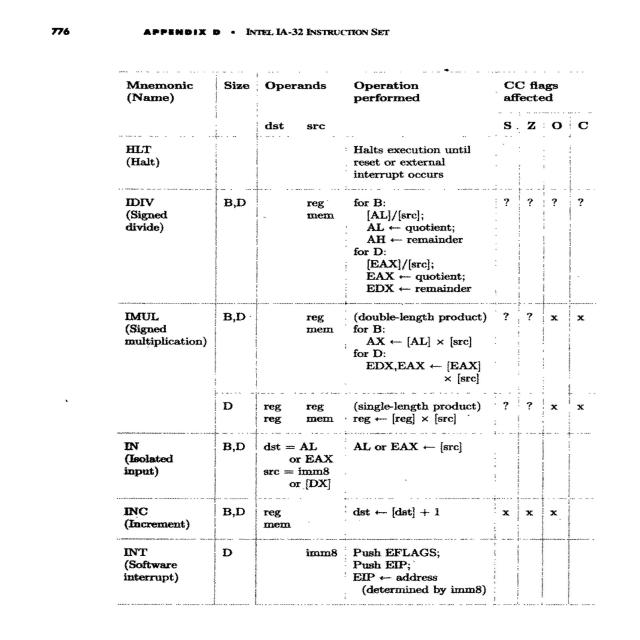diagram: (40, 49, 630, 640)
